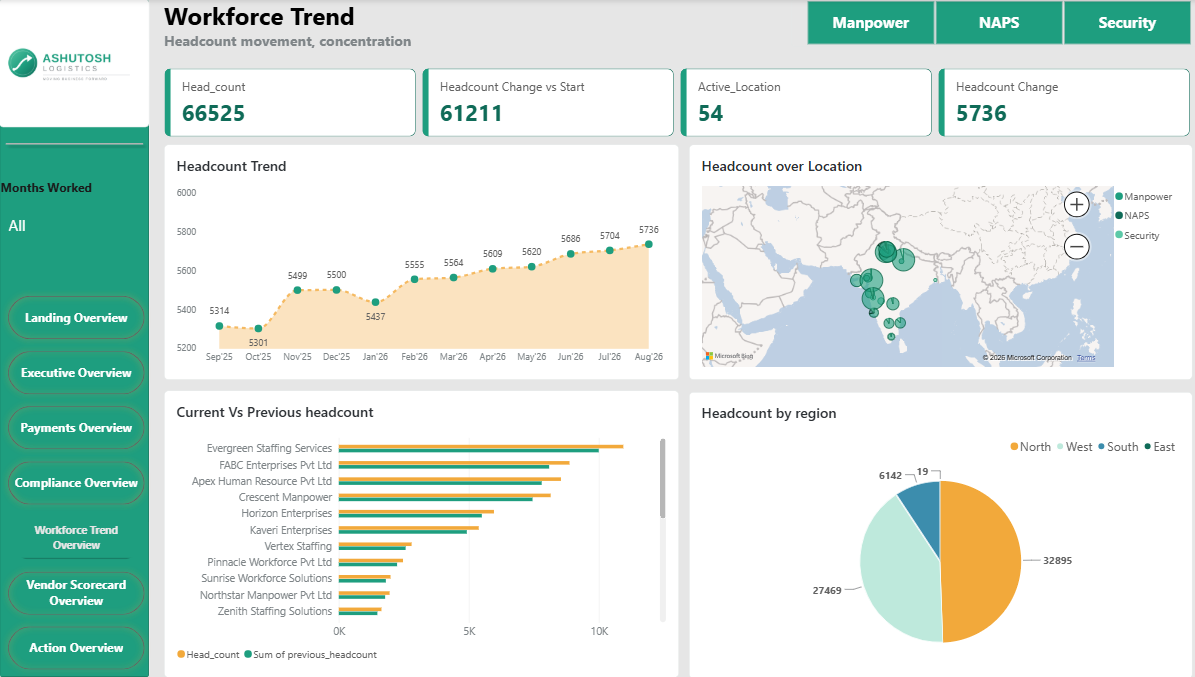

The dashboard page shown, as its layout file describes it:
{"tool":"powerbi","page":{"name":"Workforce Trend  Overview","canvas":[1600,900],"ordinal":4},"visuals":[{"type":"shape","box":[0,0,200,900],"z":0},{"type":"textbox","box":[217.8,0,470,84],"z":1000},{"type":"slicer","title":"Months Worked","fields":{"Values":["public dim_date.month_name"]},"box":[1.8,238.1,199.6,84],"z":2000},{"type":"image","box":[0,0,199.6,169.8],"z":3000},{"type":"slicer","title":"Vendor Type","fields":{"Values":["public dim_vendor.vendor_type"]},"box":[1050.6,0,549.8,63],"z":4000},{"type":"shape","box":[0,183.8,200,15.4],"z":5000},{"type":"cardVisual","fields":{"Data":["Page 1.Head_count","Page 4.Headcount Change vs Start","Sum(public dim_vendor_site.is_active)","Page 4.Headcount Change"]},"box":[217.8,90.9,1363.6,92.6],"z":6000},{"type":"areaChart","title":"Headcount Trend","fields":{"Category":["public dim_date.month_name"],"Y":["Page 1.Head_count"]},"box":[217.8,192.1,682.7,312.2],"z":7000},{"type":"map","title":"Headcount over Location","fields":{"Category":["public dim_location.location_name"],"Series":["public dim_vendor.vendor_type"],"Size":["Page 1.Head_count"],"X":["Page 4.Headcount Change"]},"box":[914.2,192.1,667.2,312.2],"z":8000},{"type":"clusteredBarChart","title":"Current Vs Previous headcount","fields":{"Category":["public dim_vendor.vendor_name"],"Y":["Page 1.Head_count","Sum(public fact_vendor_monthly.previous_headcount)"]},"box":[217.8,519.7,682.7,380.8],"z":9000},{"type":"pieChart","title":"Headcount by region","fields":{"Category":["public dim_location.region"],"Y":["Page 1.Head_count"]},"box":[914,520,667,380],"z":10000},{"type":"pageNavigator","box":[3.8,385.1,197.2,514.7],"z":11000}]}

Visuals, with their boxes on the page's 1600x900 design canvas (x1, y1, x2, y2). These are canvas units, not pixel positions in the 1195x677 screenshot, which may show the page scaled, cropped or inside an application window:
shape: detection(0, 0, 200, 900)
textbox: detection(218, 0, 688, 84)
"Months Worked" slicer: detection(2, 238, 201, 322)
image: detection(0, 0, 200, 170)
"Vendor Type" slicer: detection(1051, 0, 1600, 63)
shape: detection(0, 184, 200, 199)
cardVisual - Page 1.Head_count x Page 4.Headcount Change vs Start: detection(218, 91, 1581, 184)
"Headcount Trend" areaChart: detection(218, 192, 900, 504)
"Headcount over Location" map: detection(914, 192, 1581, 504)
"Current Vs Previous headcount" clusteredBarChart: detection(218, 520, 900, 900)
"Headcount by region" pieChart: detection(914, 520, 1581, 900)
pageNavigator: detection(4, 385, 201, 900)
